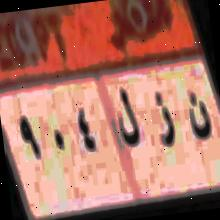0: (50, 120, 69, 157)
4: (75, 105, 98, 164)
9: (16, 110, 44, 170)
laam: (112, 79, 142, 156)
noon: (184, 91, 214, 147)
zay: (152, 91, 178, 158)
